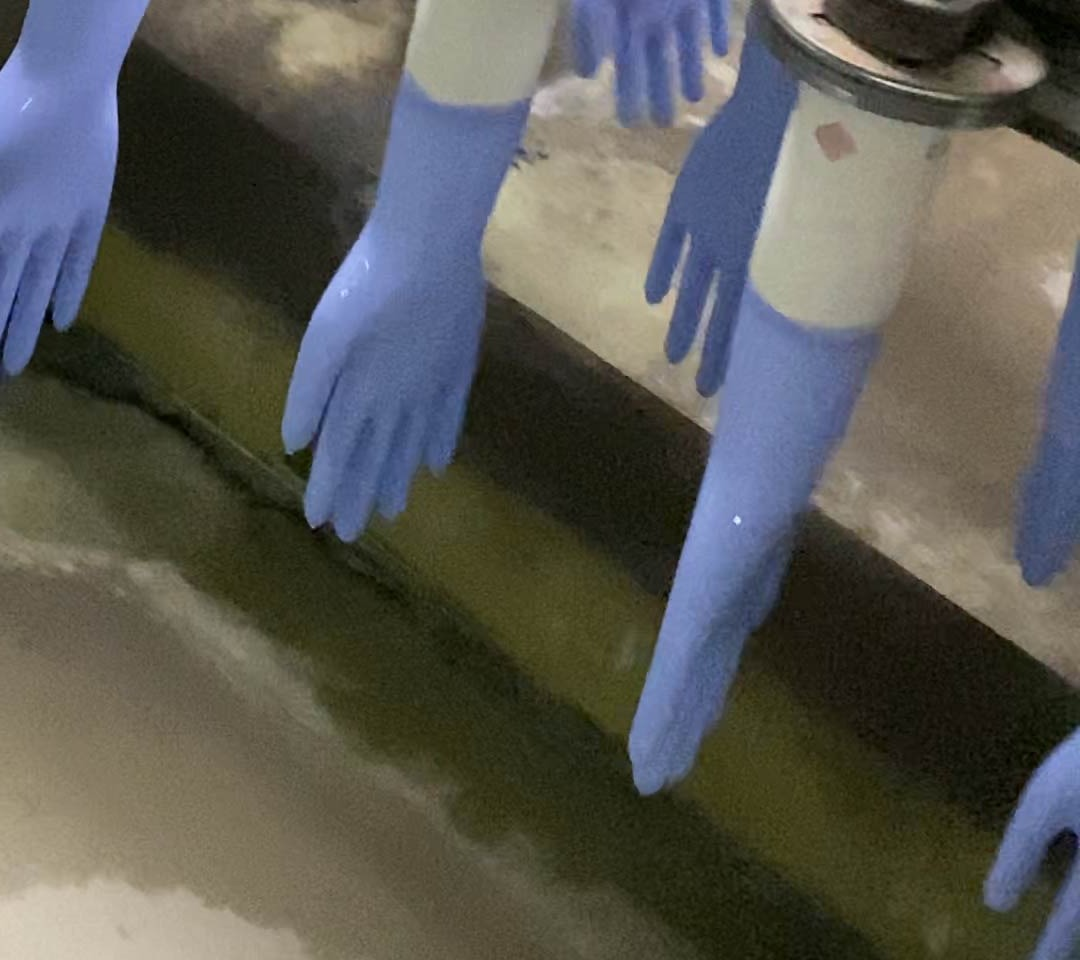glove: (623, 283, 876, 800), (280, 65, 534, 541), (640, 14, 803, 397), (1, 1, 129, 383)
